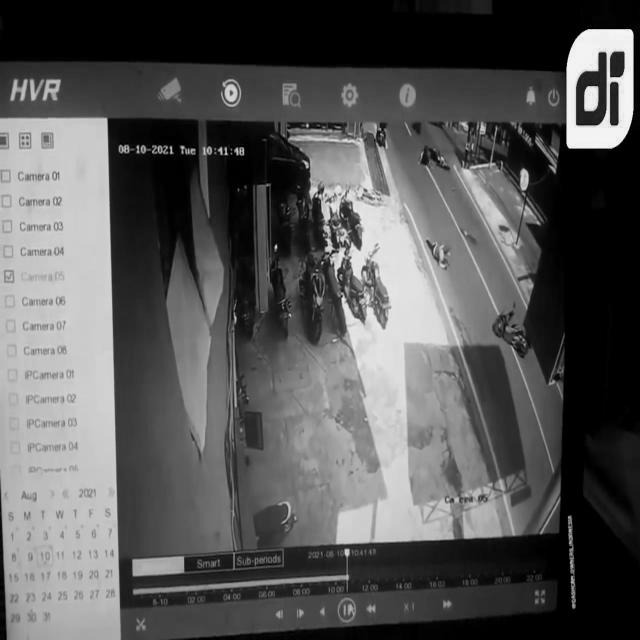accident: (489, 299, 536, 363), (418, 142, 454, 178)
non-accident: (268, 242, 392, 346), (274, 182, 364, 256)
